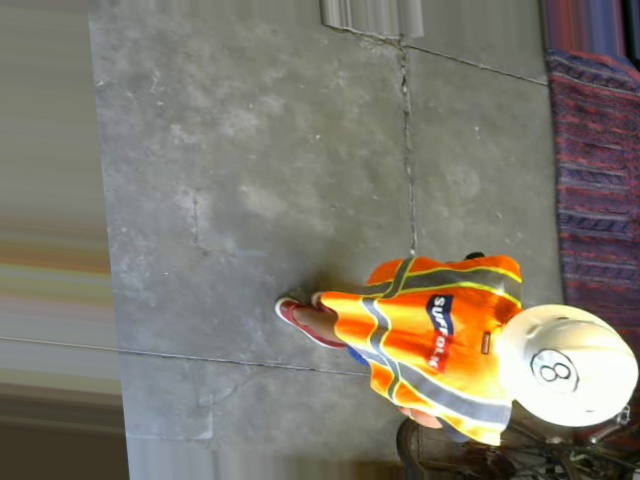eight: (528, 346, 580, 396)
